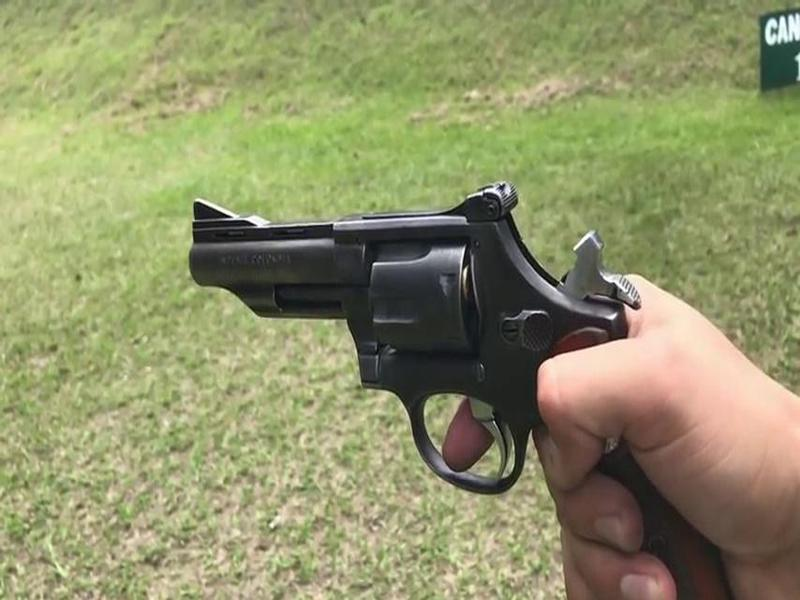Revolver: (178, 165, 668, 600)
